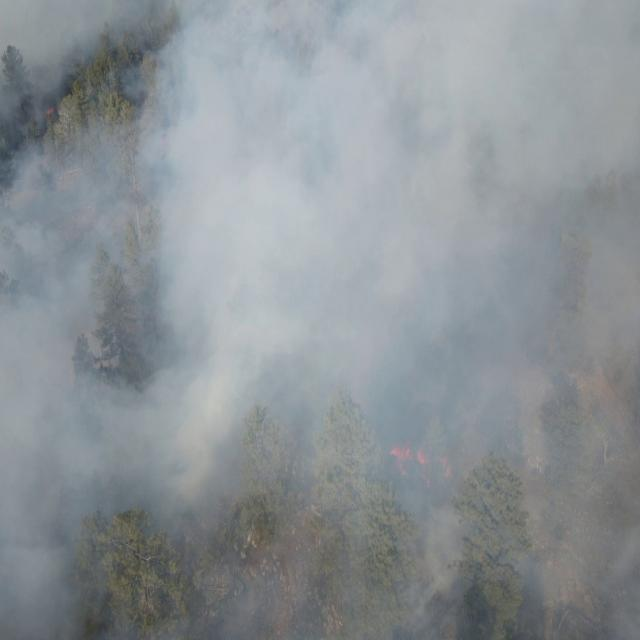fire: (393, 441, 431, 484), (439, 448, 457, 482), (43, 98, 61, 120)
smoke: (0, 0, 640, 640)
